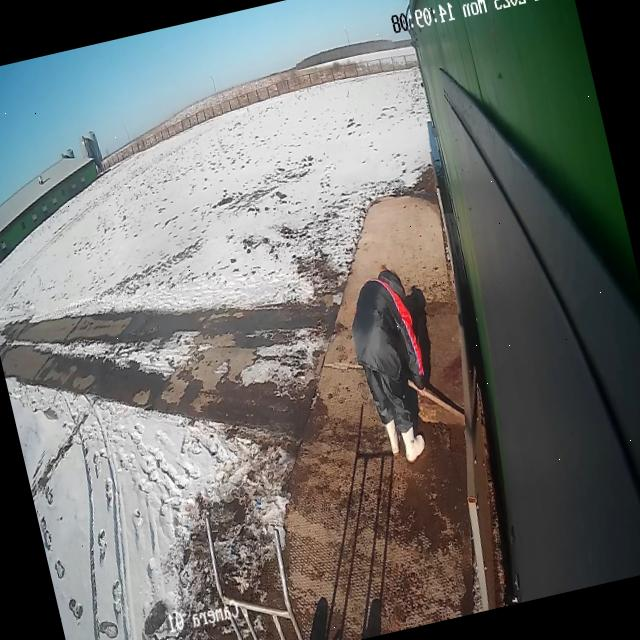Red uniform: (336, 256, 462, 472)
